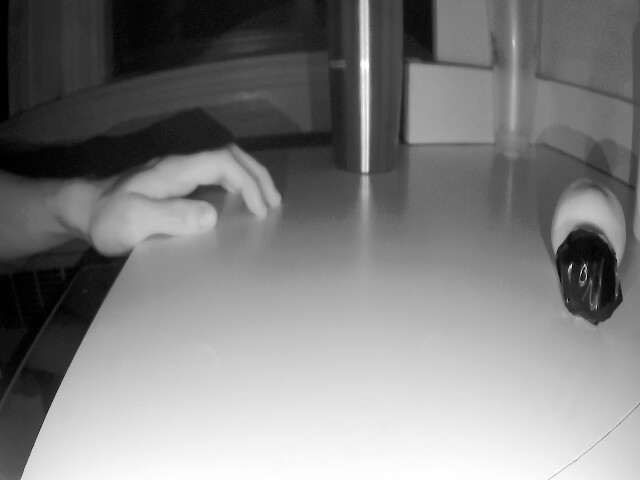black: (550, 230, 624, 330)
